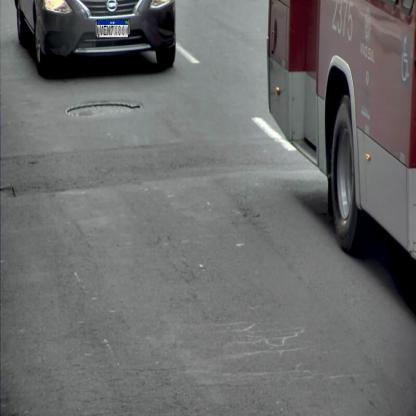PlacaM: (97, 20, 128, 38)
